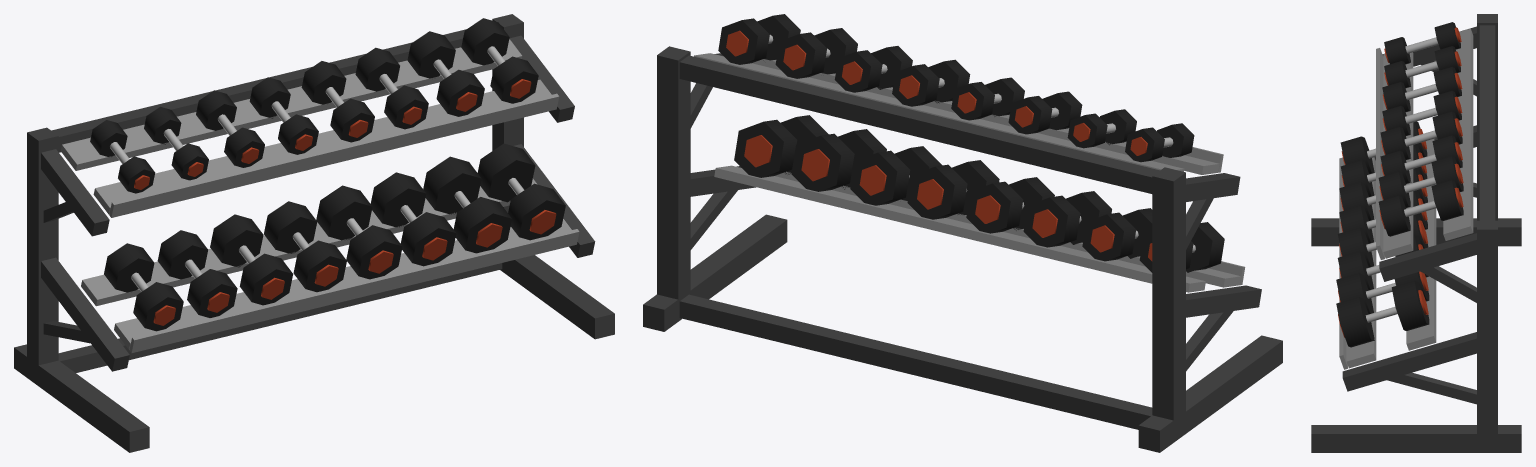
Rendered from Dumbbell_Rack_Elite.fbx.
The picture shows the model from 3 angles, left to right: view 1: azimuth 30°, elevation 25°; view 2: azimuth 150°, elevation 25°; view 3: azimuth 270°, elevation 25°; orthographic projection. The views are drawn at different scales.
Visible parts, largest first — view 1: Dumbbell_Rack_Elite; view 2: Dumbbell_Rack_Elite; view 3: Dumbbell_Rack_Elite.
Boxes of the visible parts, x1,y1,x2,y2 form: Dumbbell_Rack_Elite: (14, 14, 614, 452); Dumbbell_Rack_Elite: (643, 14, 1282, 452); Dumbbell_Rack_Elite: (1311, 14, 1521, 452).
Bounding box in the file's own units: 194 × 104 × 80.
